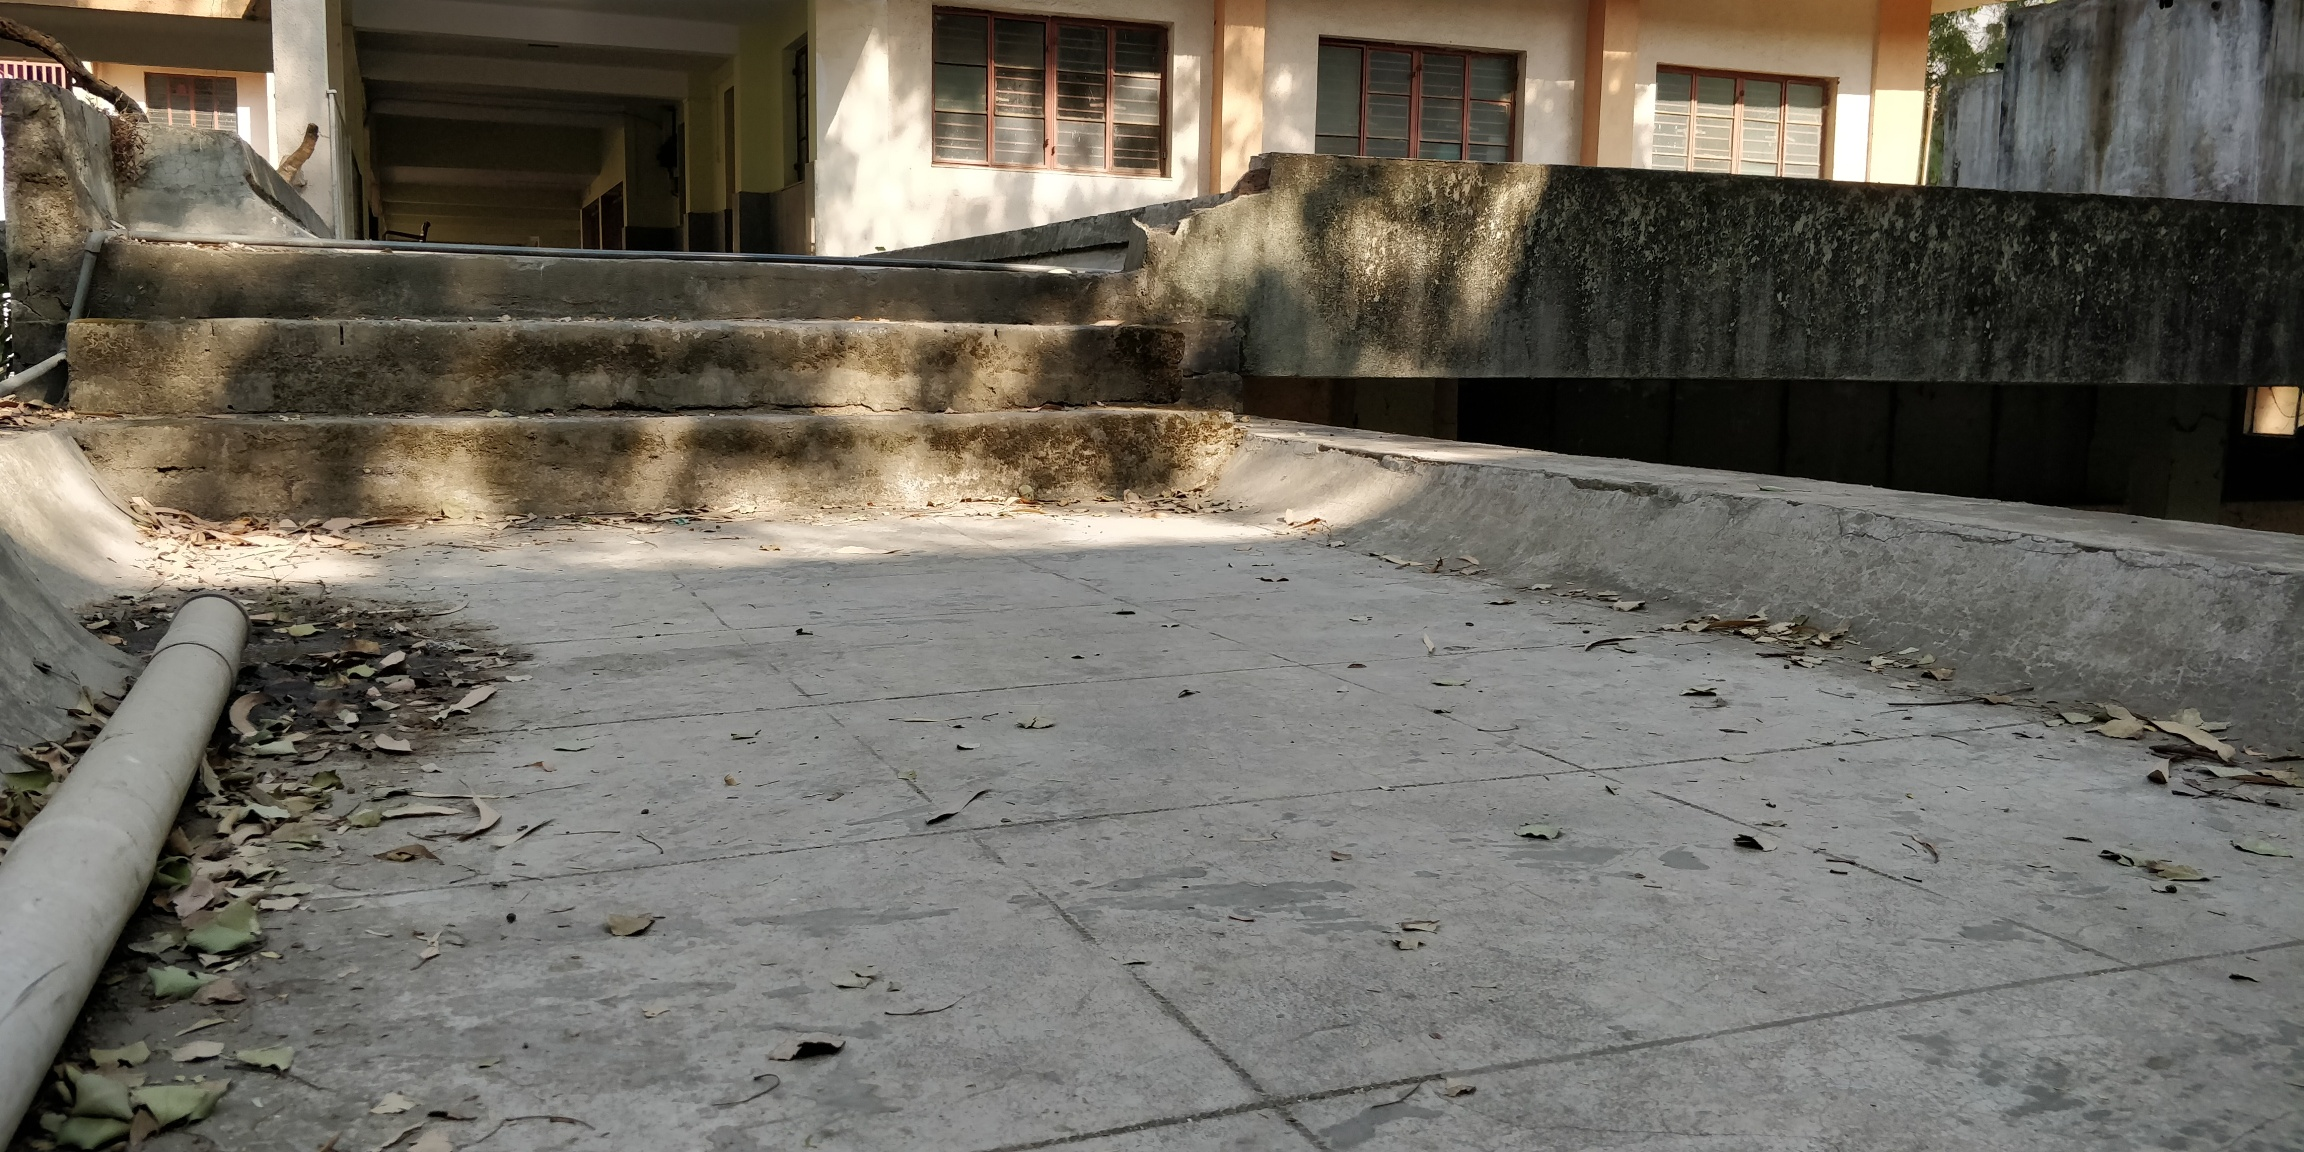stairs_up: (90, 245, 1198, 525)
